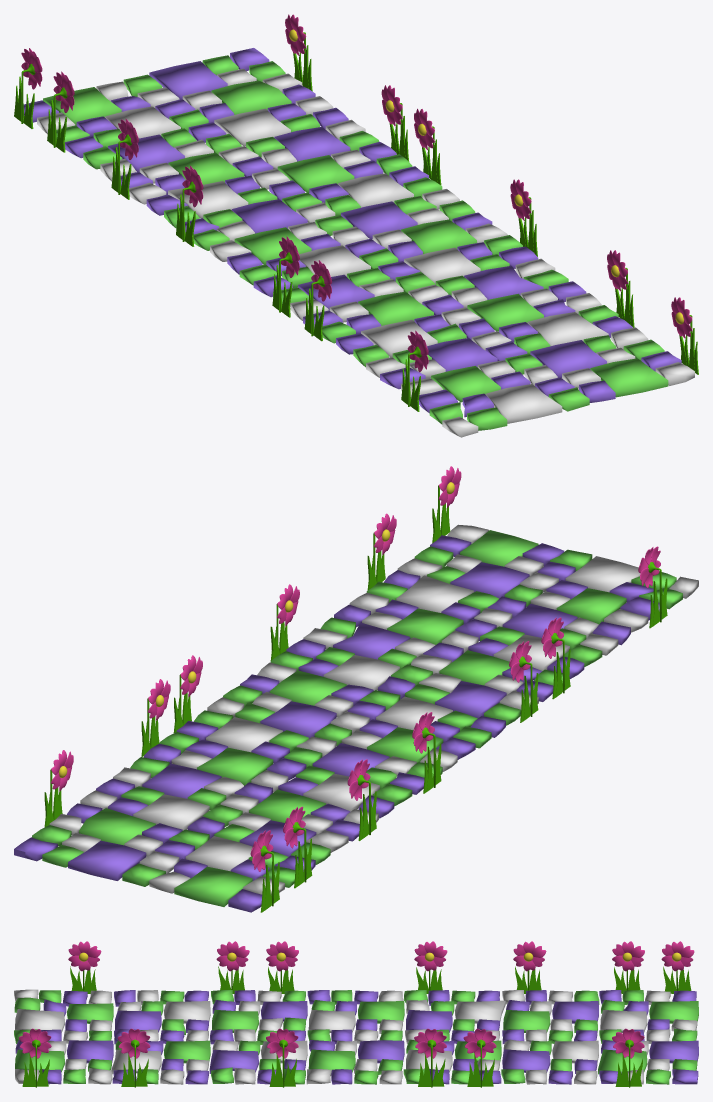
Rendered from stones_straight.glb.
3 views of the same model, one above another, from view 1: azimuth 30°, elevation 25°; view 2: azimuth 150°, elevation 25°; view 3: azimuth 270°, elevation 25° (orthographic). The views are drawn at different scales.
Visible parts, largest first — view 1: Flower; view 2: Flower; view 3: Flower.
Part boxes in pixels (left/top/right/bottom): Flower: left=14, top=14, right=698, bottom=437; Flower: left=14, top=466, right=698, bottom=912; Flower: left=14, top=941, right=698, bottom=1087.
Bounding box in the file's own units: 6.54 × 1.77 × 19.94.
